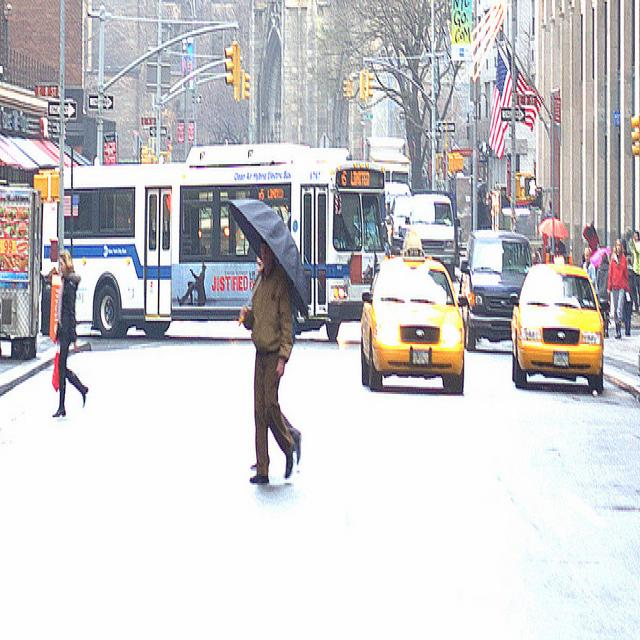Vehicle: (40, 139, 388, 340), (359, 246, 466, 394), (512, 264, 604, 392), (462, 233, 533, 350), (401, 191, 458, 278), (500, 205, 543, 264), (391, 194, 414, 249), (386, 180, 412, 217), (385, 181, 412, 213)
